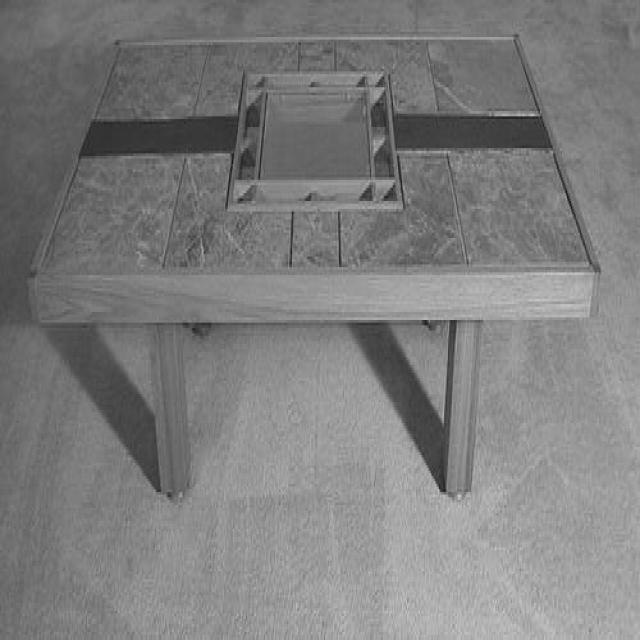table: (29, 34, 602, 496)
